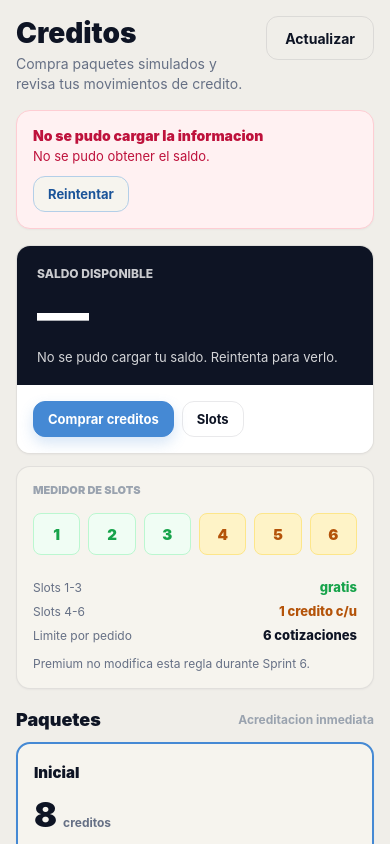
Test: CreditosScreen — saldo › el checkout no inventa el saldo actual cuando no se pudo cargar
This screenshot has width=390, height=844.
Expected: the text "No se pudo obtener el saldo." is shown, [33,148,210,164]
Click the text "Comprar creditos" at (103, 419), box [48,411,159,427]
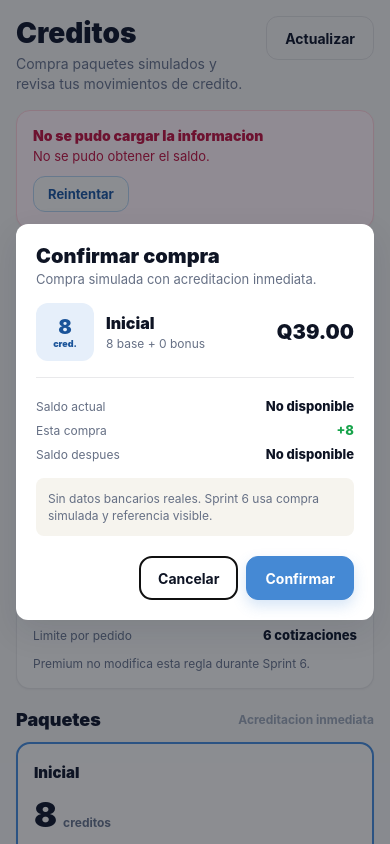
Expected: the text "Confirmar compra" is shown, [36,244,220,268]
Expected: the text "No disponible" is shown 2 times, [266,398,354,414]; [266,446,354,462]
